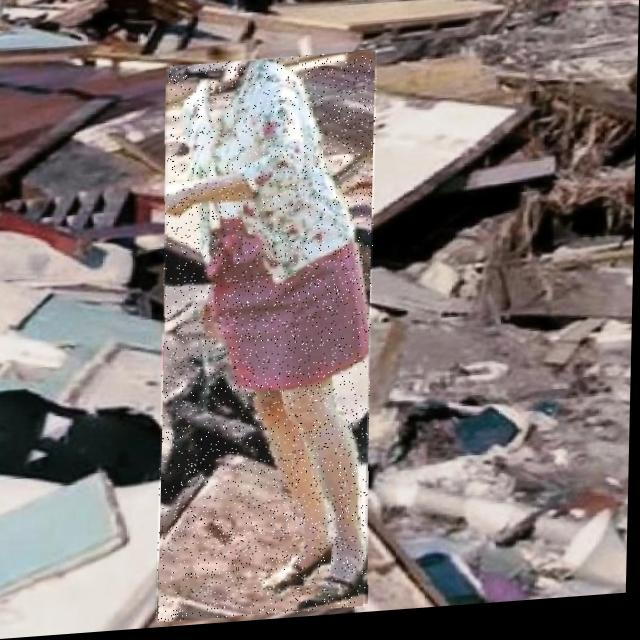Person in Rubble: (159, 56, 378, 625)
